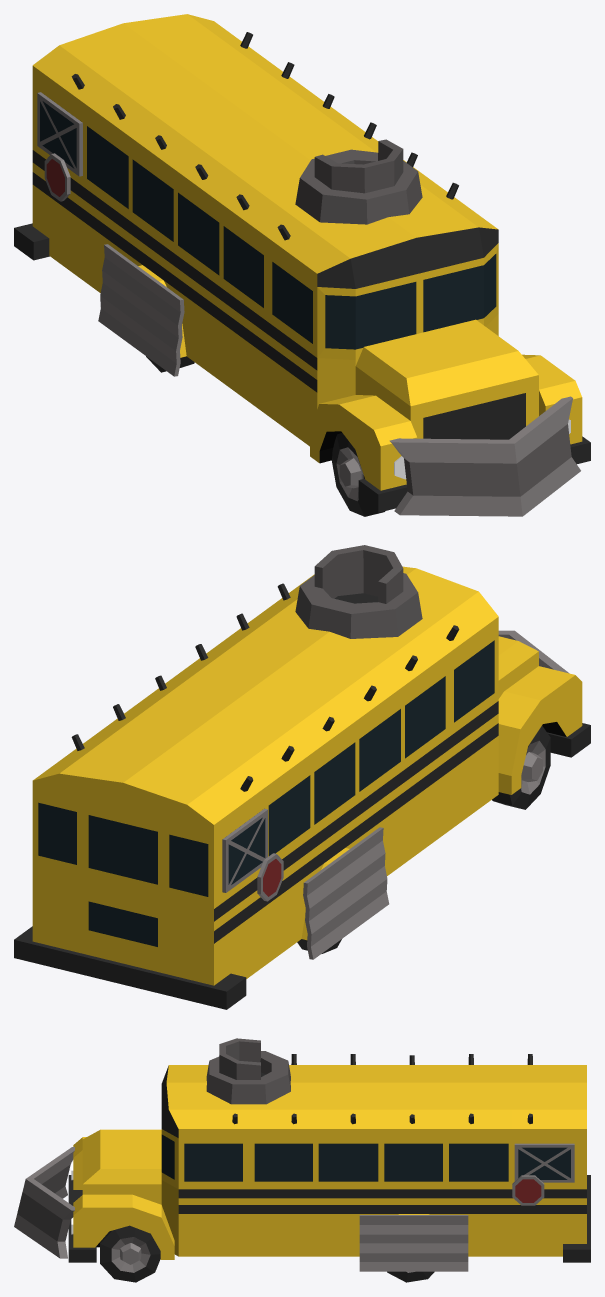
The model's file is bus-school.glb.
The picture shows the model from 3 angles, top to bottom: view 1: azimuth 30°, elevation 25°; view 2: azimuth 150°, elevation 25°; view 3: azimuth 270°, elevation 25°; orthographic projection. The views are drawn at different scales.
Parts seen in each view (by area): view 1: bus-school-base, bus-school-equipment, bus-school-wheel_FR; view 2: bus-school-base, bus-school-equipment, bus-school-wheel_FR; view 3: bus-school-base, bus-school-equipment, bus-school-wheel_FL, bus-school-wheel_BL.
Part boxes in pixels (x1,y1,x2,y2): bus-school-base: [14, 14, 590, 512]; bus-school-equipment: [37, 32, 580, 516]; bus-school-wheel_FR: [331, 433, 385, 516]; bus-school-base: [14, 566, 590, 1009]; bus-school-equipment: [71, 545, 569, 959]; bus-school-wheel_FR: [492, 725, 550, 809]; bus-school-base: [68, 1065, 590, 1262]; bus-school-equipment: [14, 1038, 574, 1271]; bus-school-wheel_FL: [100, 1225, 160, 1282]; bus-school-wheel_BL: [387, 1271, 434, 1282].
Size of the model in its own units: 3.03 by 3.78 by 9.77.
Materials: 1 (1 with a texture image).
